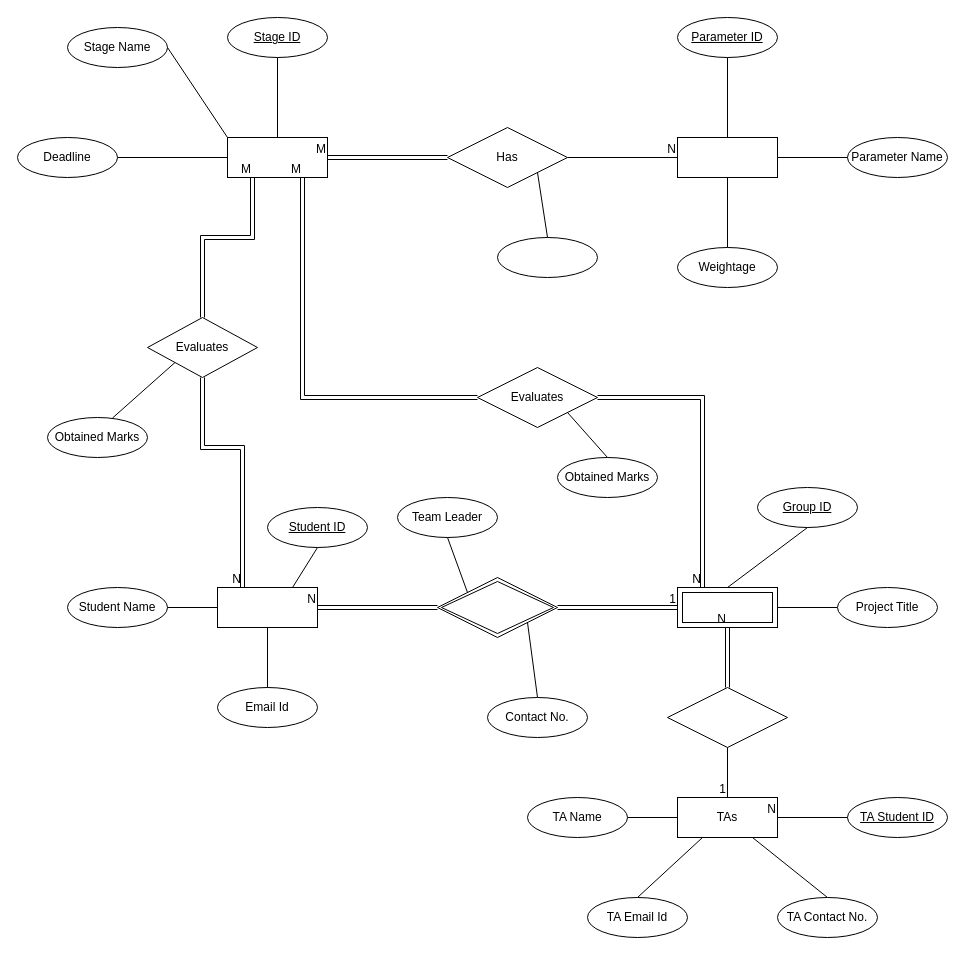
This 965x955 diagram has some shape labels left out. Here are the shapes that lost their labels. From the top down, the centre of each, then its label:
At (x=277, y=157): "Stages".
At (x=727, y=157): "Parameters".
At (x=547, y=257): "Maximum Marks".
At (x=267, y=607): "Students".
At (x=497, y=607): "Member of".
At (x=727, y=607): "Groups".
At (x=727, y=717): "Supervised by".
